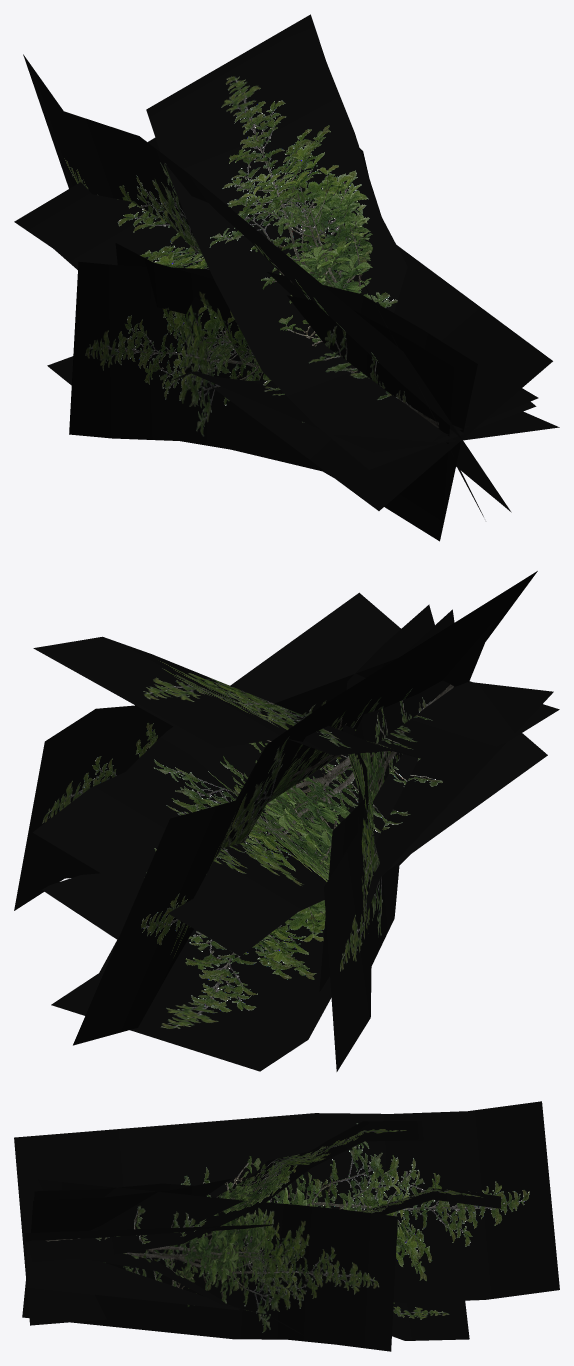
The model's file is tree_1.obj.
The picture shows the model from 3 angles, top to bottom: view 1: azimuth 30°, elevation 25°; view 2: azimuth 150°, elevation 25°; view 3: azimuth 270°, elevation 25°; orthographic projection. The views are drawn at different scales.
Parts seen in each view (by area): view 1: tree_1; view 2: tree_1; view 3: tree_1.
Boxes of the visible parts, x1=… form: tree_1: x1=14, y1=14, x2=559, y2=541; tree_1: x1=14, y1=571, x2=559, y2=1071; tree_1: x1=14, y1=1101, x2=559, y2=1351.
Bounding box in the file's own units: 2.01 × 2.18 × 4.3.
